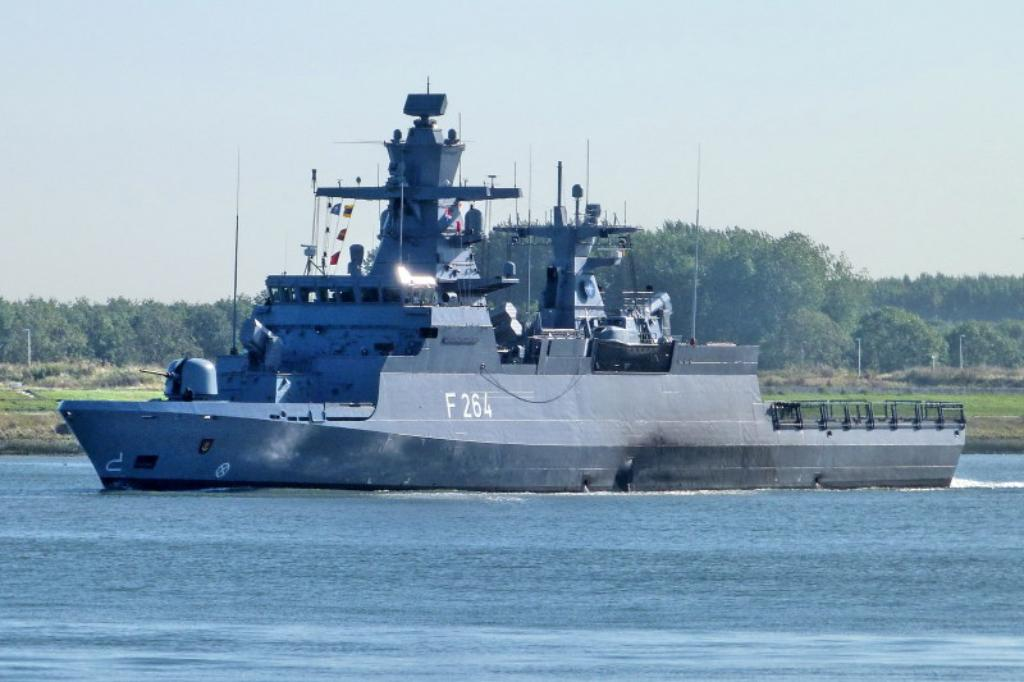Warship: (54, 82, 972, 496)
